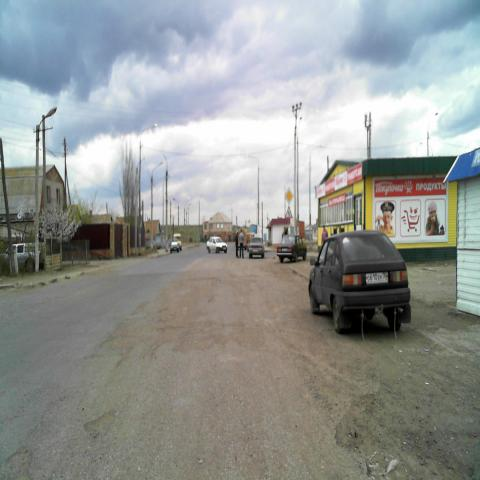1_11_1: (285, 206, 294, 220)
